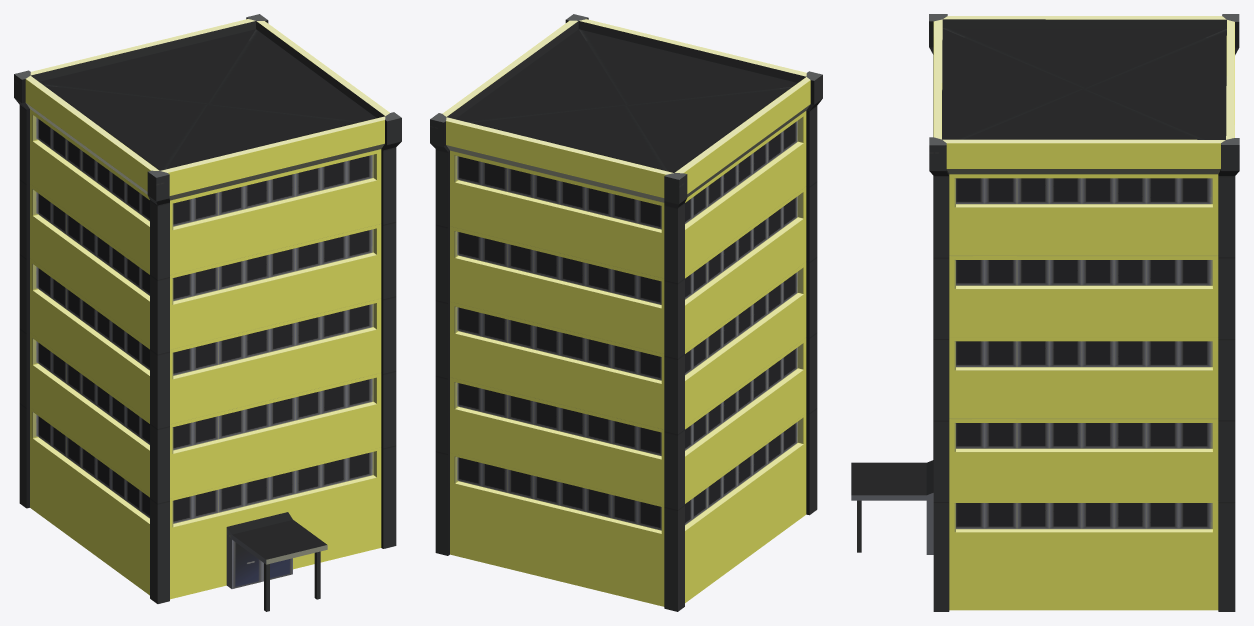
The model's file is Stack Big.fbx.
3 views of the same model, side by side, from view 1: azimuth 30°, elevation 25°; view 2: azimuth 150°, elevation 25°; view 3: azimuth 270°, elevation 25° (orthographic). The views are drawn at different scales.
Visible parts, largest first — view 1: Stack Big; view 2: Stack Big; view 3: Stack Big.
Part boxes in pixels (<box>): Stack Big: <box>14,14,401,611</box>; Stack Big: <box>430,14,822,611</box>; Stack Big: <box>851,14,1239,611</box>.
Bounding box in the file's own units: 529 × 881 × 662.
